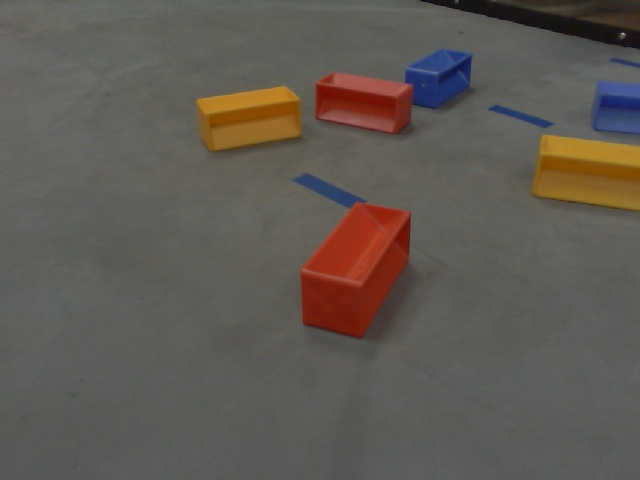BlueSample: (400, 48, 472, 111), (585, 77, 640, 135)
RedSample: (293, 200, 420, 339), (312, 69, 417, 138)
YellowSample: (528, 131, 640, 213), (193, 83, 304, 153)
